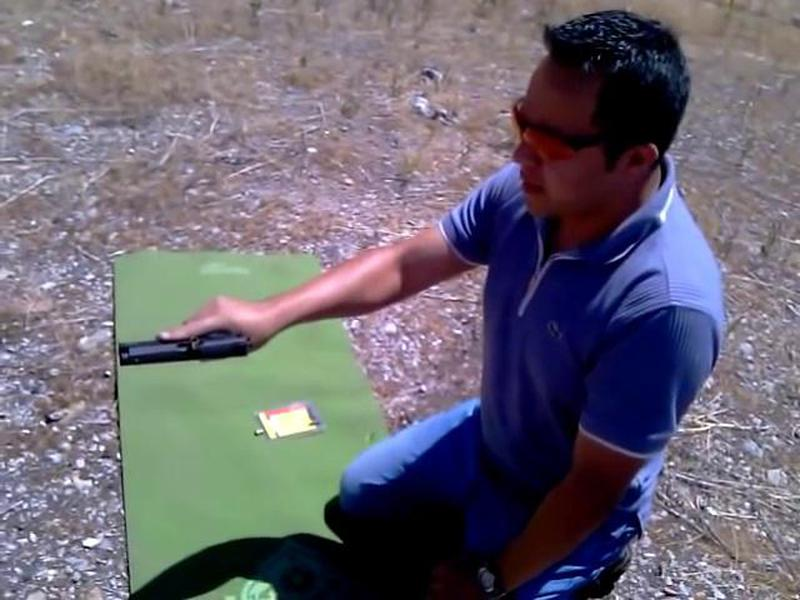Pistola: (103, 320, 275, 383)
